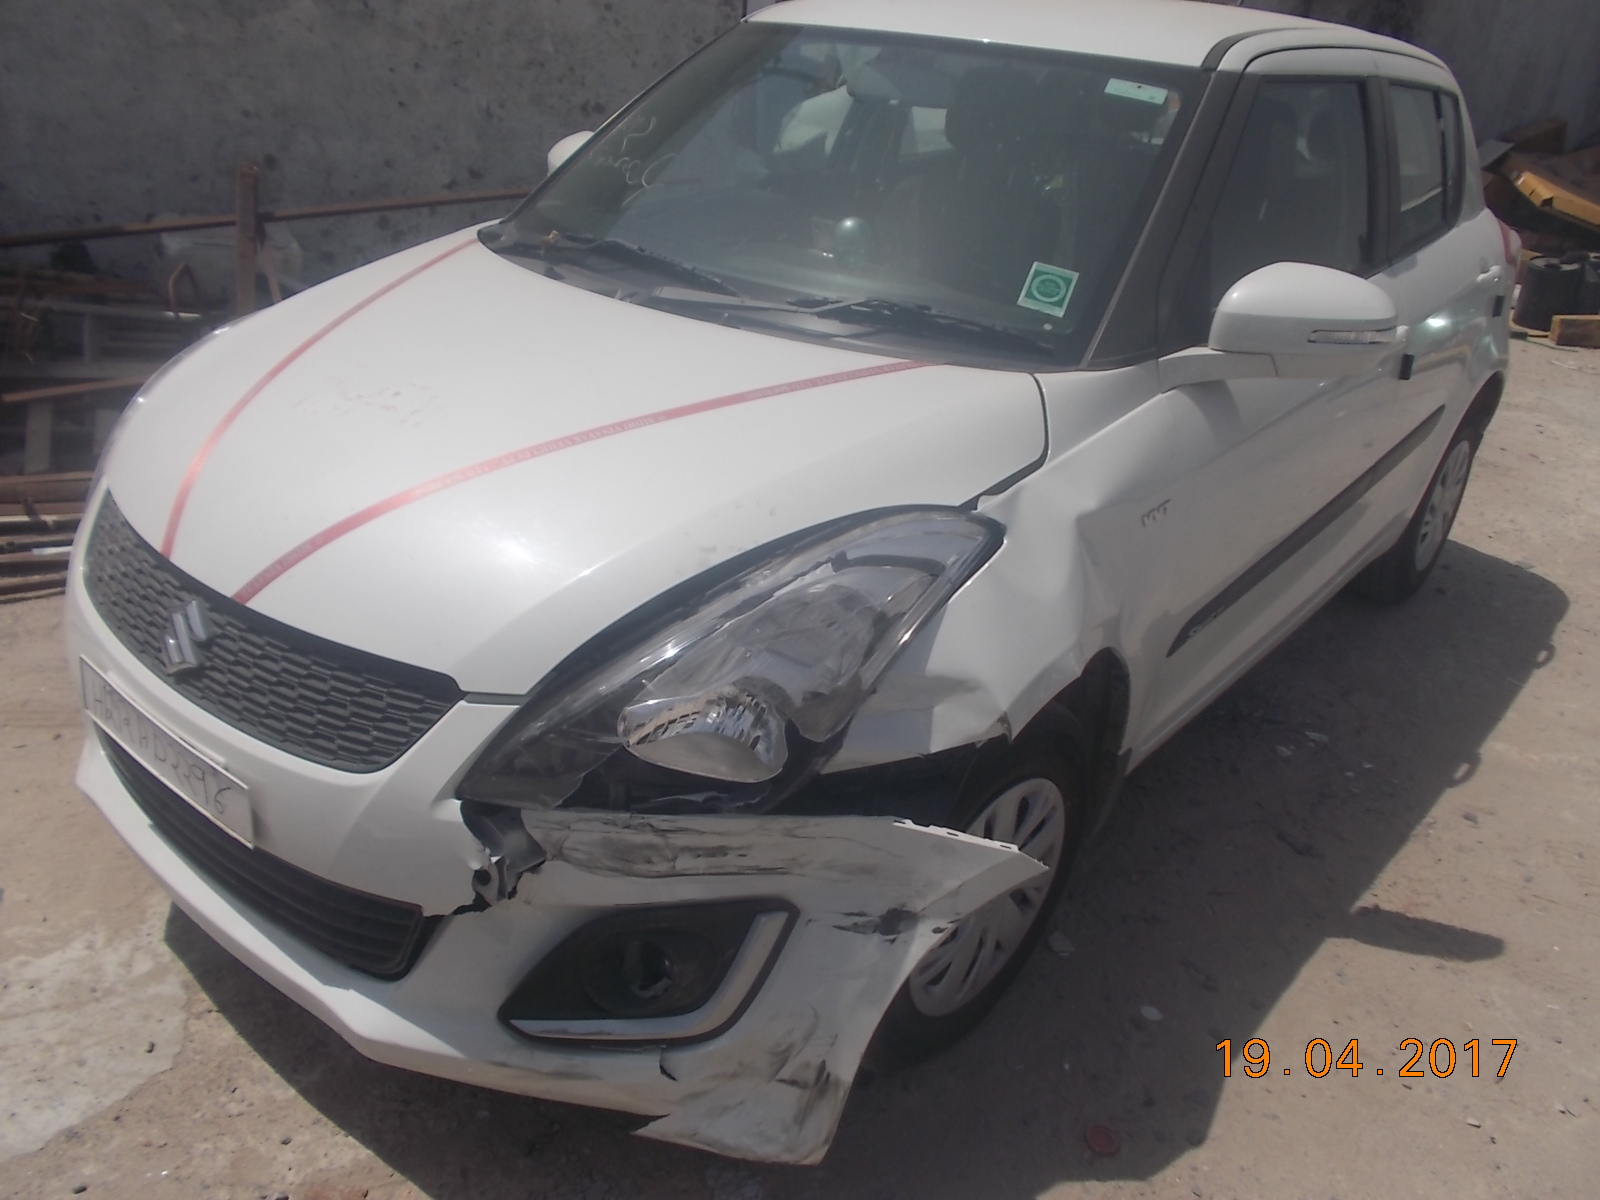Dent: (1066, 504, 1168, 632)
Dislocation: (818, 721, 1036, 904)
Tear: (438, 792, 563, 934)
